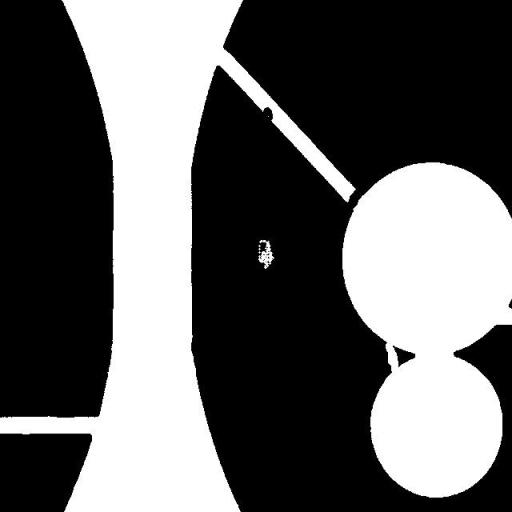open: (378, 334, 406, 380)
pin-hole: (250, 232, 282, 276)
short: (336, 180, 371, 218)
spur: (254, 99, 280, 127)
